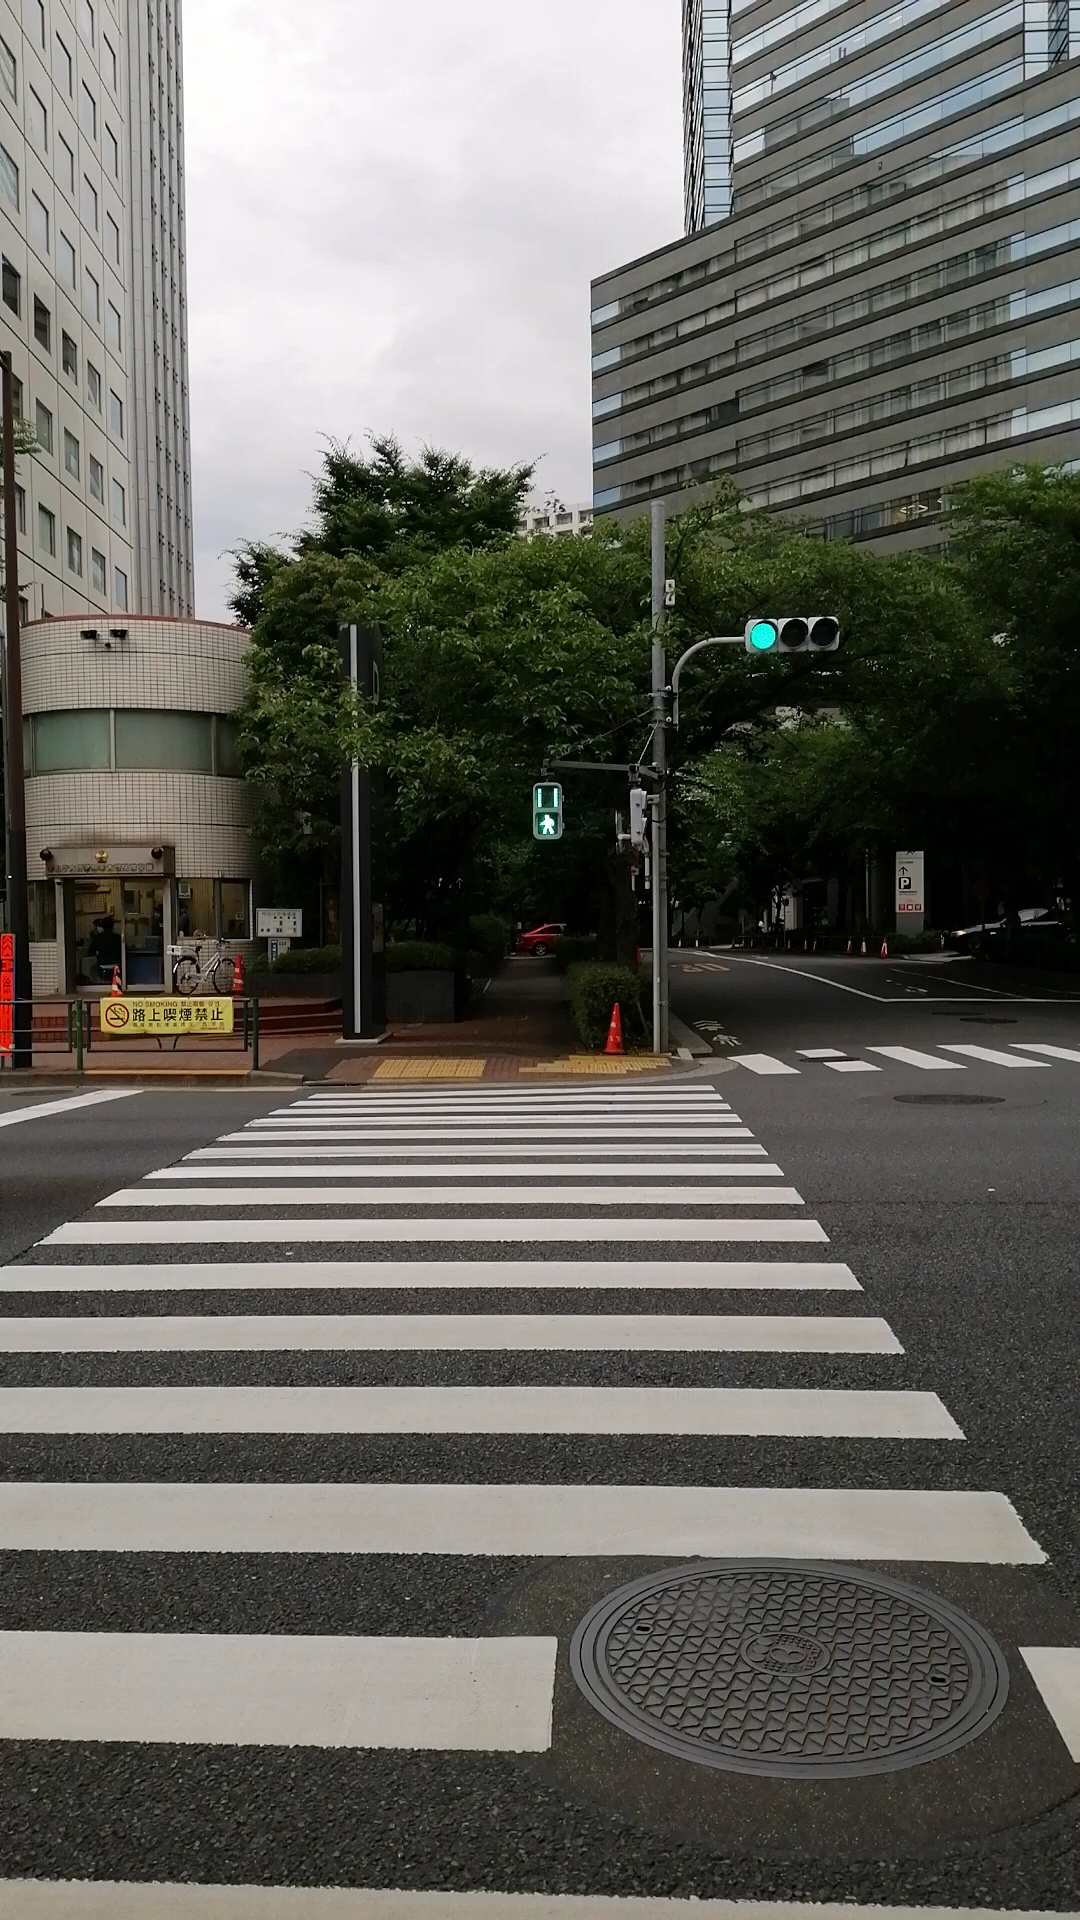green: (531, 781, 563, 839)
